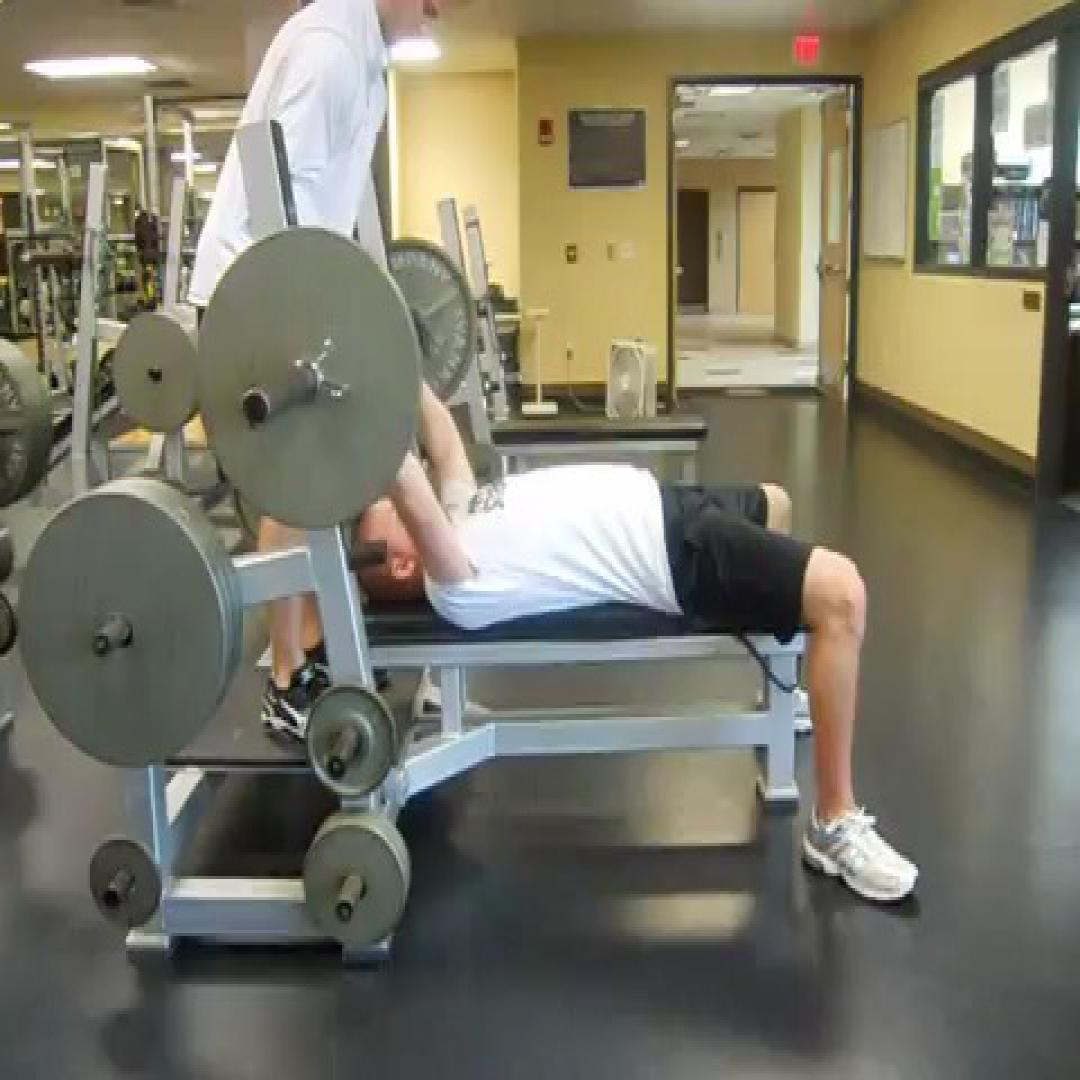Bar: (238, 387, 272, 432)
Barbell: (194, 228, 420, 528)
